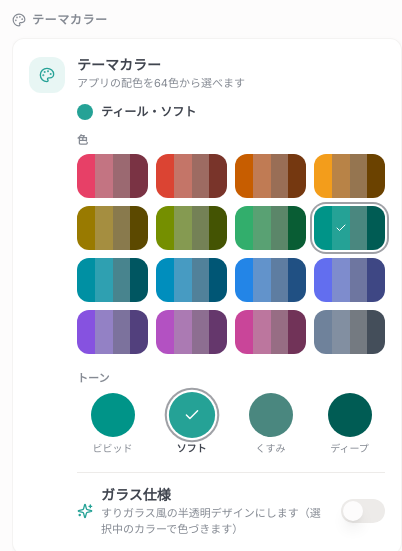
Test case: ThemeColorSwitcher › 色を替えてもトーンはそのまま。押した瞬間にアプリの色が変わる
The width and height of the screenshot is (402, 551).
Step 1. Click the button with test id "theme-tone-dusty" → (270, 424), box [235,392,306,456]
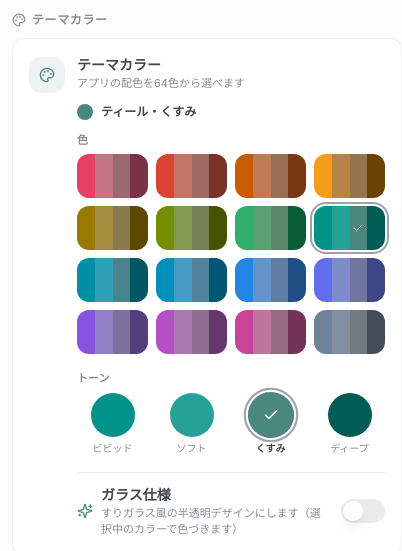
Step 2. Click the button with test id "theme-family-pink" → (270, 332), box [235,310,306,354]
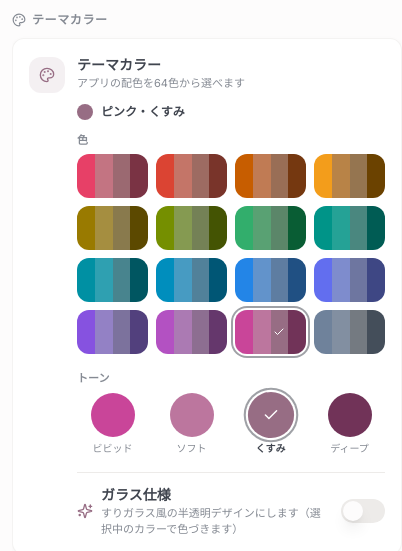
Now the element with test id "theme-current" reads "ピンク・くすみ", box [101,104,185,118]
